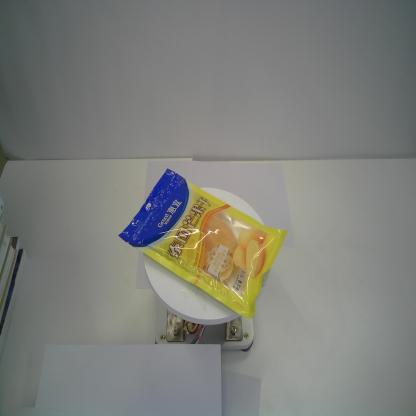Dried Fruit: (118, 166, 287, 322)
